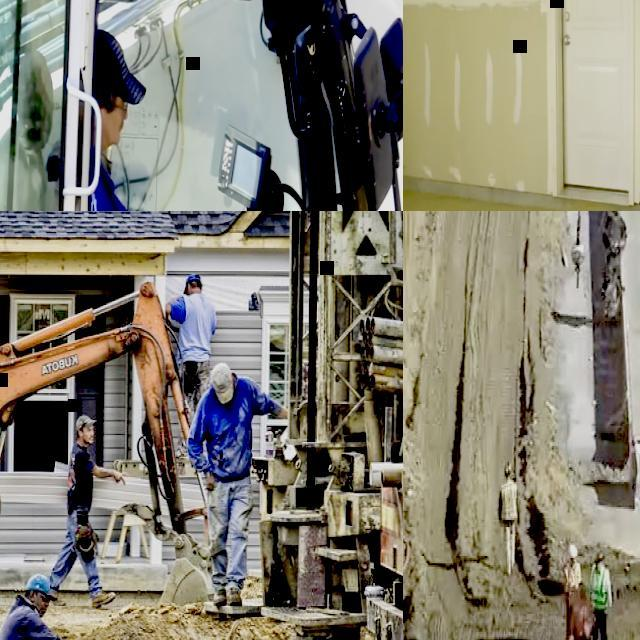helmet: (568, 544, 579, 558), (504, 462, 514, 476), (595, 551, 605, 563)
vest: (574, 598, 592, 638), (590, 569, 608, 608), (501, 482, 517, 520), (565, 563, 581, 589)
